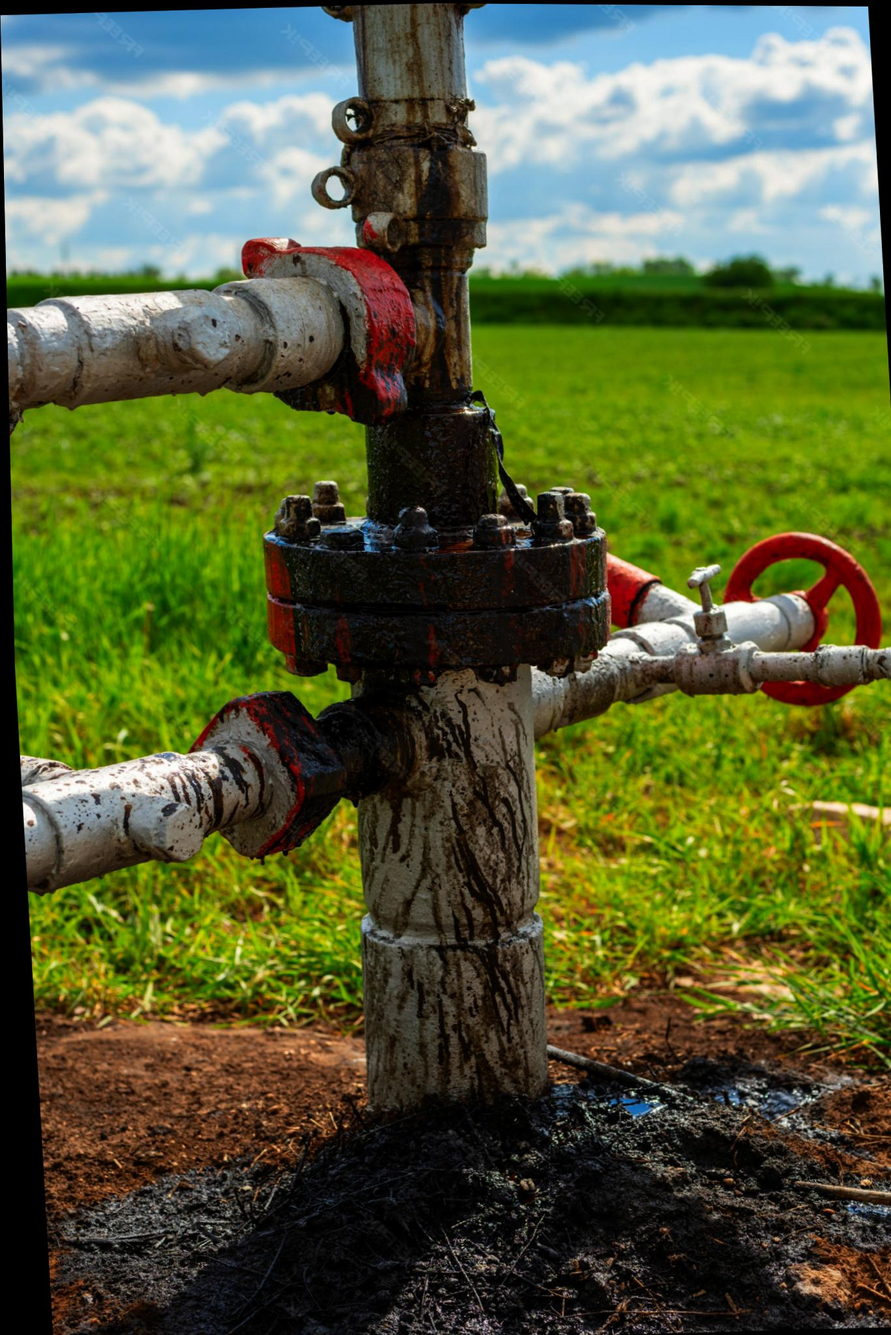leak: (265, 159, 620, 690)
